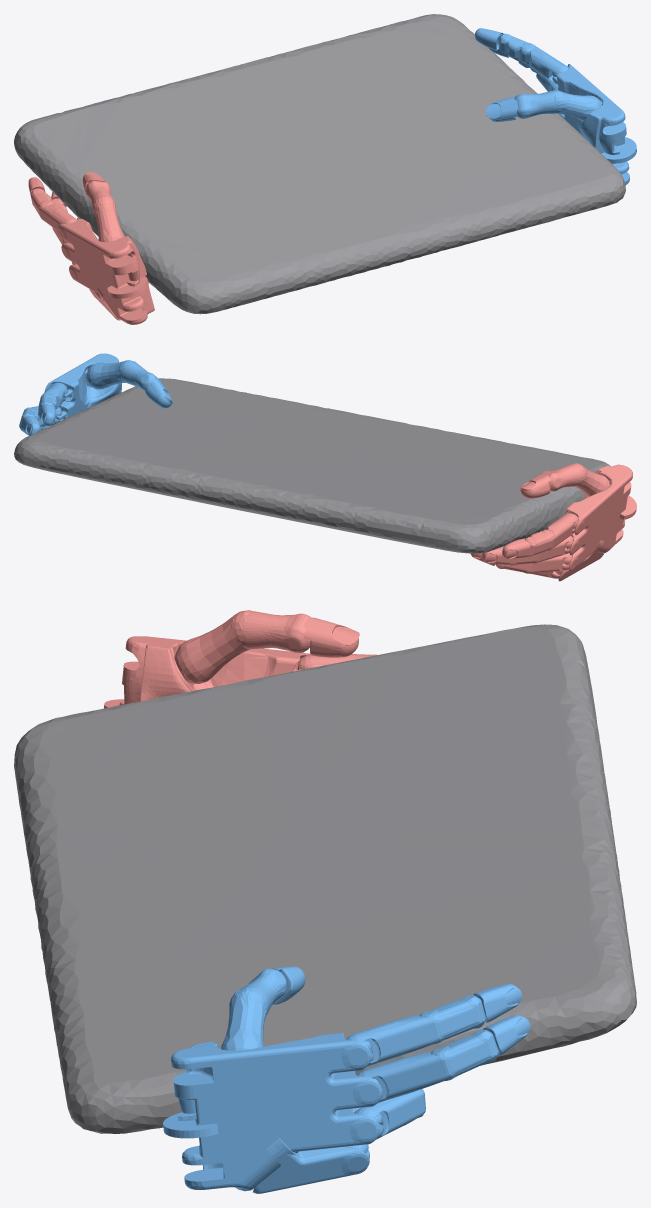
The model's file is mujoco_HP_1800_Tablet_8GB_7_scale030_pair19024_grasp.glb.
The picture shows the model from 3 angles, top to bottom: view 1: azimuth 30°, elevation 25°; view 2: azimuth 150°, elevation 25°; view 3: azimuth 270°, elevation 25°; orthographic projection. The views are drawn at different scales.
Parts seen in each view (by area): view 1: object_mesh, left_shadow_hand, right_shadow_hand; view 2: object_mesh, left_shadow_hand, right_shadow_hand; view 3: object_mesh, right_shadow_hand, left_shadow_hand.
Boxes of the visible parts, bbox=[...] form: object_mesh: bbox=[14, 14, 625, 314]; left_shadow_hand: bbox=[28, 172, 154, 324]; right_shadow_hand: bbox=[475, 28, 636, 184]; object_mesh: bbox=[14, 378, 611, 553]; left_shadow_hand: bbox=[471, 463, 636, 581]; right_shadow_hand: bbox=[19, 353, 173, 435]; object_mesh: bbox=[14, 624, 636, 1133]; right_shadow_hand: bbox=[163, 966, 530, 1193]; left_shadow_hand: bbox=[104, 610, 377, 708].
Size of the model in its own units: 0.5912 by 0.1177 by 0.3526.
